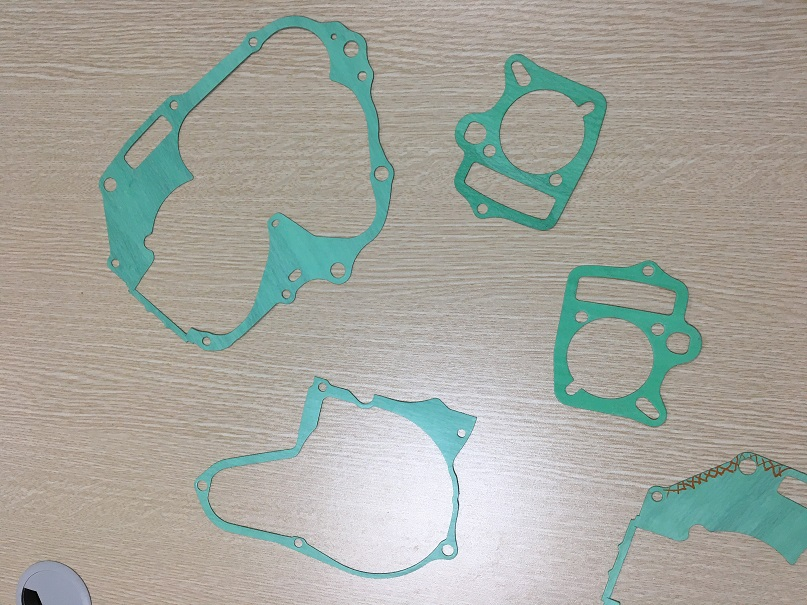type1: (188, 363, 482, 581)
type3: (92, 13, 398, 358)
type4: (445, 45, 609, 238), (545, 252, 706, 438)
